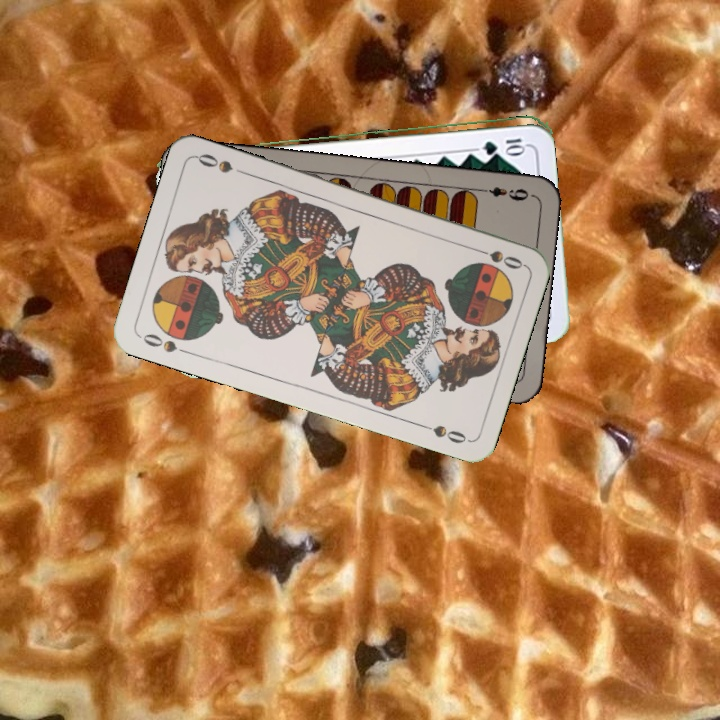E9: (475, 182, 534, 204)
G10: (478, 134, 528, 154)
SO: (468, 243, 526, 272), (136, 329, 193, 357)
